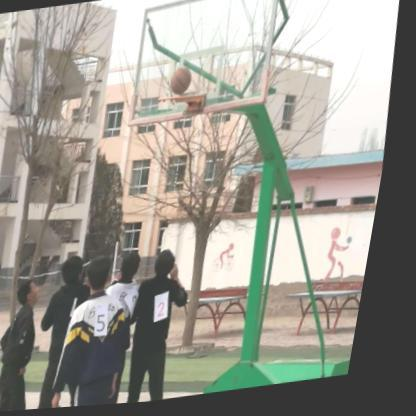basketball: (171, 69, 198, 99)
